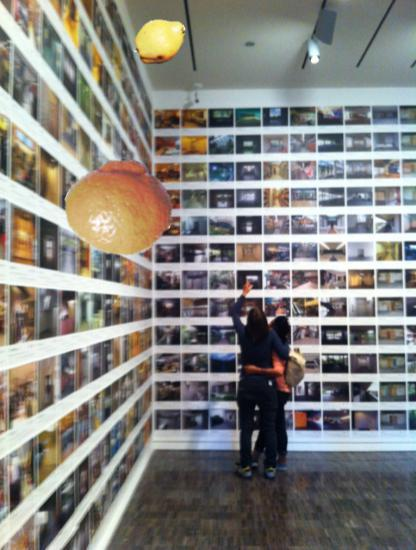Mandarine: (66, 153, 174, 261)
Quince: (132, 13, 189, 70)
